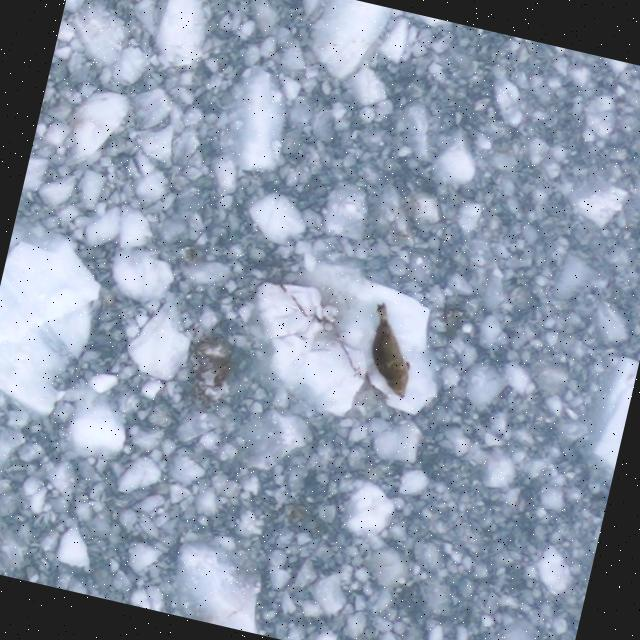seal: (352, 296, 425, 403)
